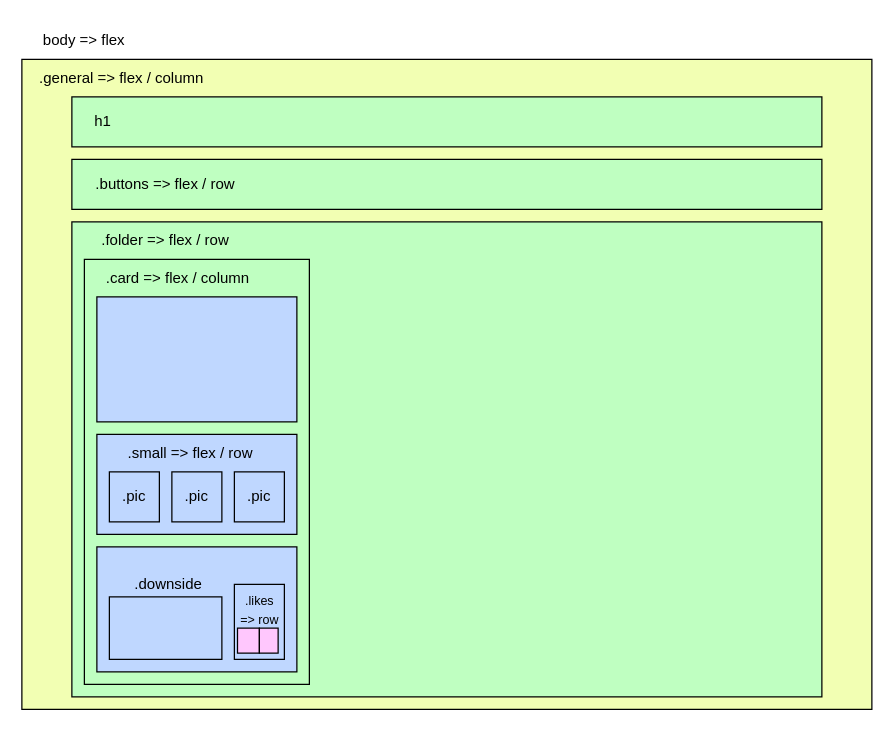
The diagram is 894 pixels wide and 731 high, and some of its shapes have lost their labels. The box of each missing label's shape, as (x1, y1, x2, y2) in pixels:
.big: (96, 296, 297, 422)
.text: (108, 596, 222, 659)
